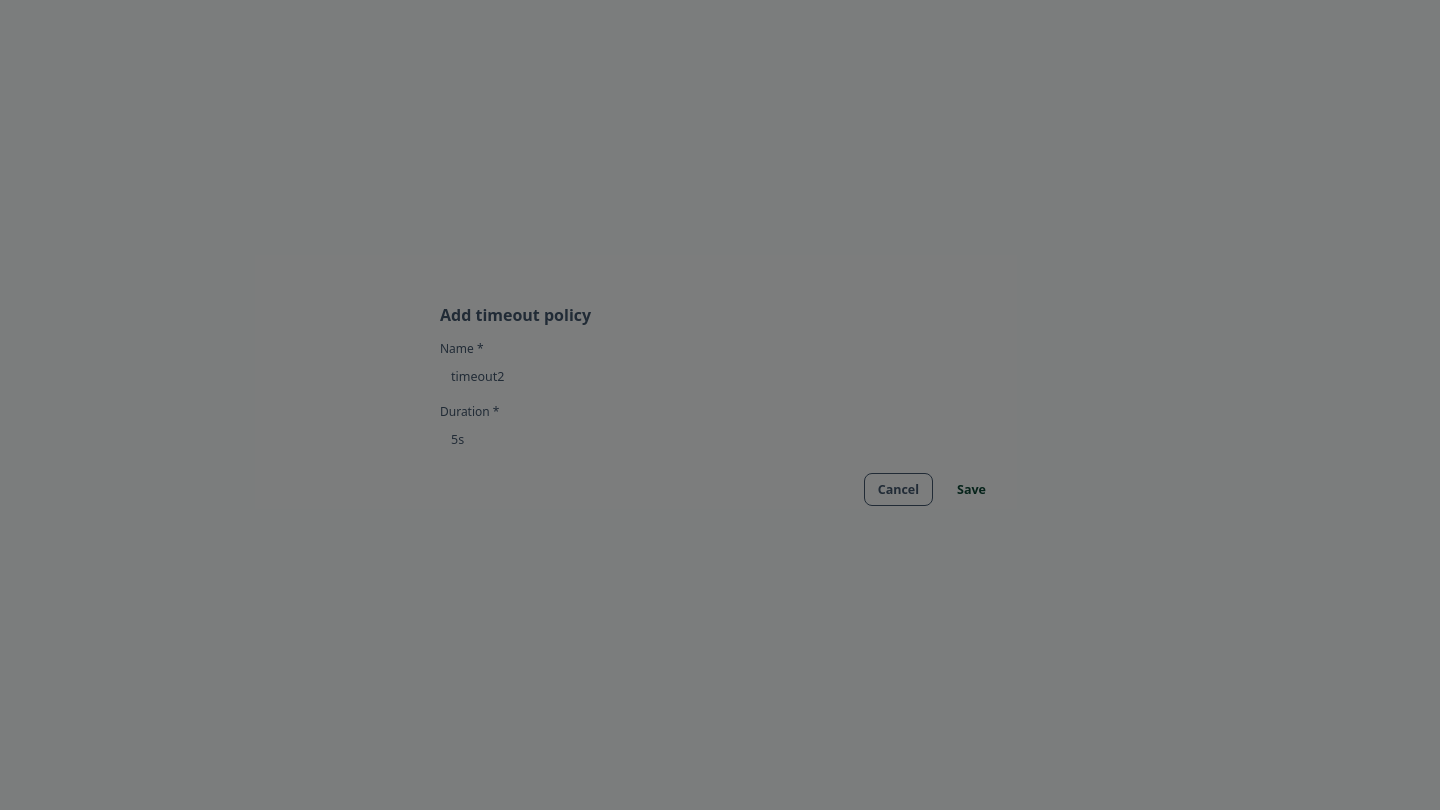
Test: duplicate name guard › TimeoutDialog blocks saving a name that duplicates an existing timeout
Expected: the button "Save" is enabled, [943, 473, 1000, 506]
Replace the text in the field named "timeout name" with "timeout1". click: point(731, 376)
box: [440, 361, 1022, 392]
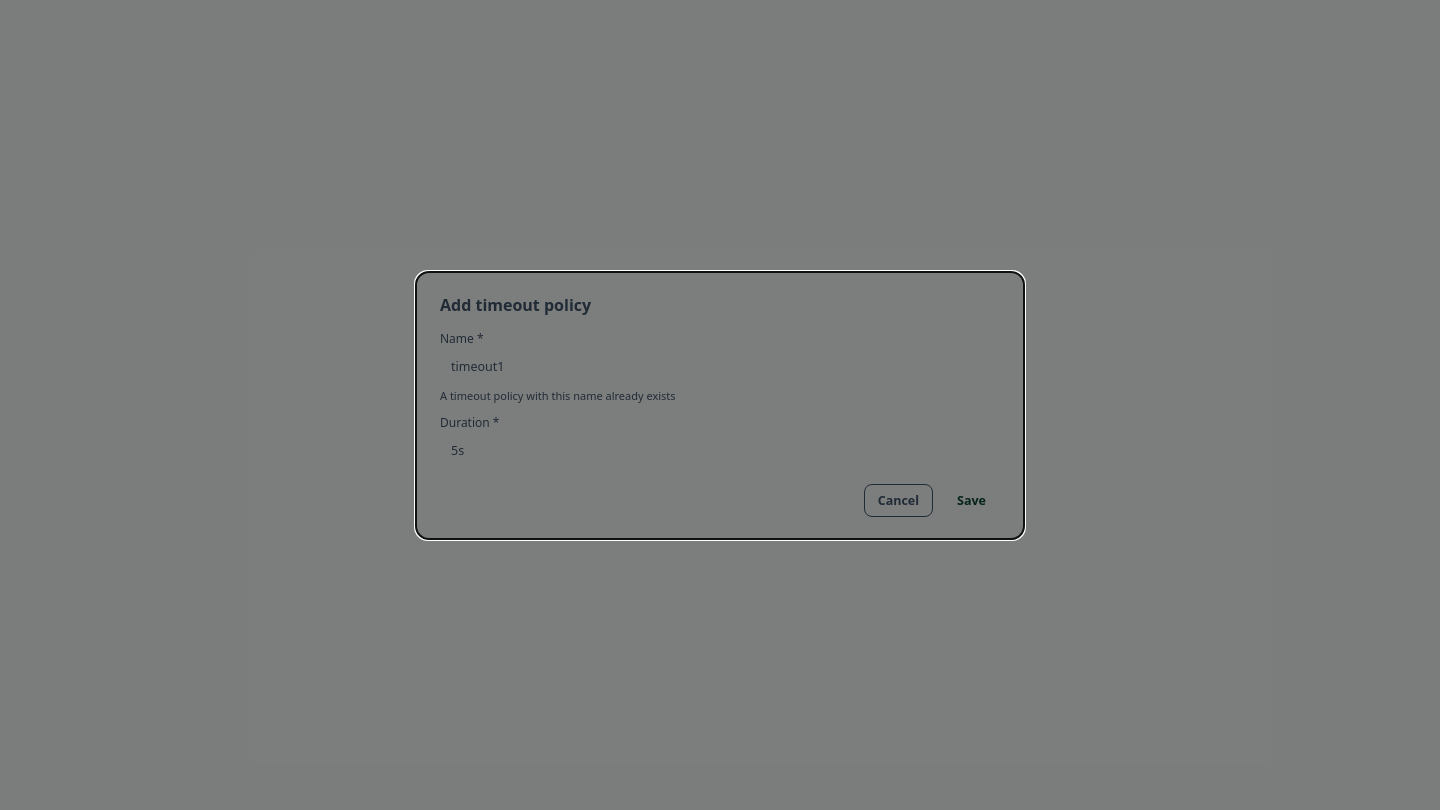
Expected: the text "A timeout policy with this name already exists" is shown, [440, 388, 676, 402]
Expected: the button "Save" is disabled, [943, 484, 1000, 516]
